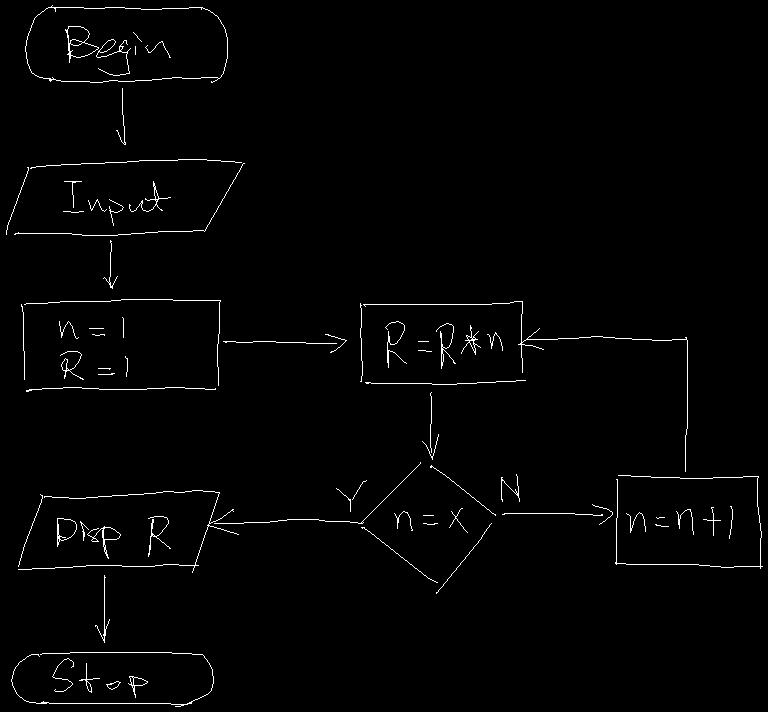arrow: (518, 328, 687, 471), (207, 509, 363, 534), (223, 334, 346, 352), (502, 504, 612, 524), (422, 392, 438, 459), (95, 575, 109, 642), (103, 240, 117, 288), (116, 88, 125, 144)
data: (6, 159, 244, 235), (18, 490, 219, 572)
decision: (361, 462, 495, 593)
process: (21, 299, 220, 391), (360, 301, 525, 384), (615, 475, 762, 568)
terminator: (25, 5, 227, 82), (11, 652, 213, 706)
text: (385, 321, 502, 368), (65, 26, 170, 75), (57, 516, 170, 558), (63, 181, 170, 225), (59, 317, 127, 379), (52, 658, 147, 697), (626, 506, 732, 538), (394, 508, 467, 532), (336, 480, 366, 511), (501, 474, 519, 501)
